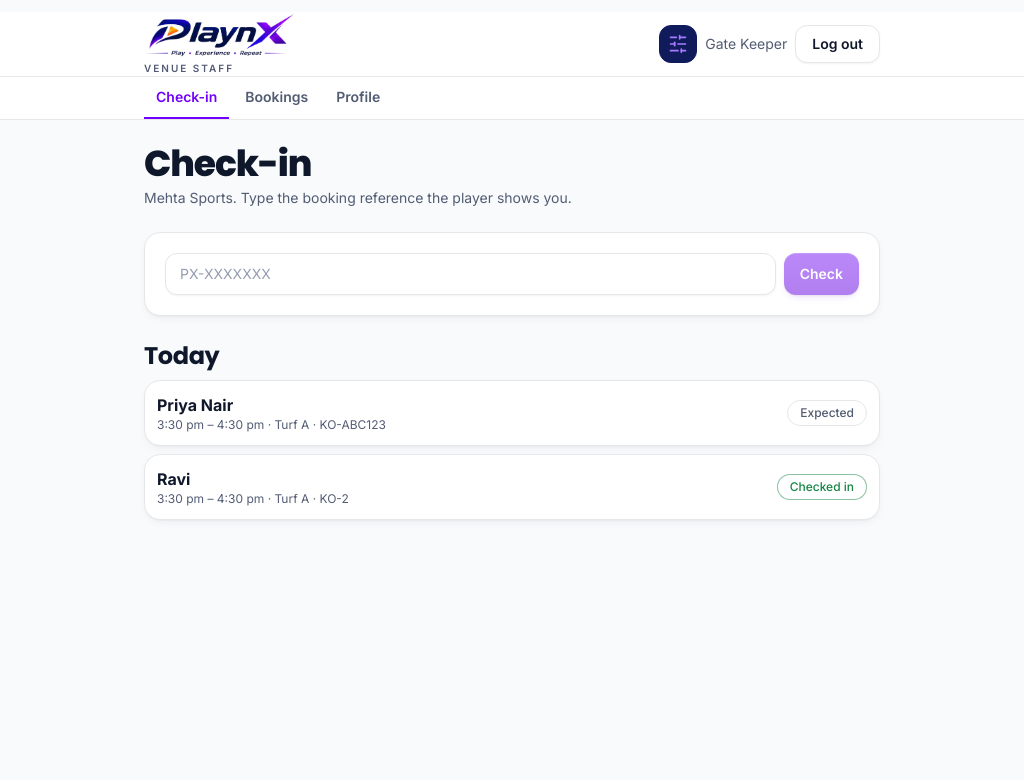
Test case: staff portal › says plainly when a booking is not valid, and offers no check-in
Type "KO-ABC123" into the field named "Booking reference" at (470, 274), box [165, 253, 776, 295]
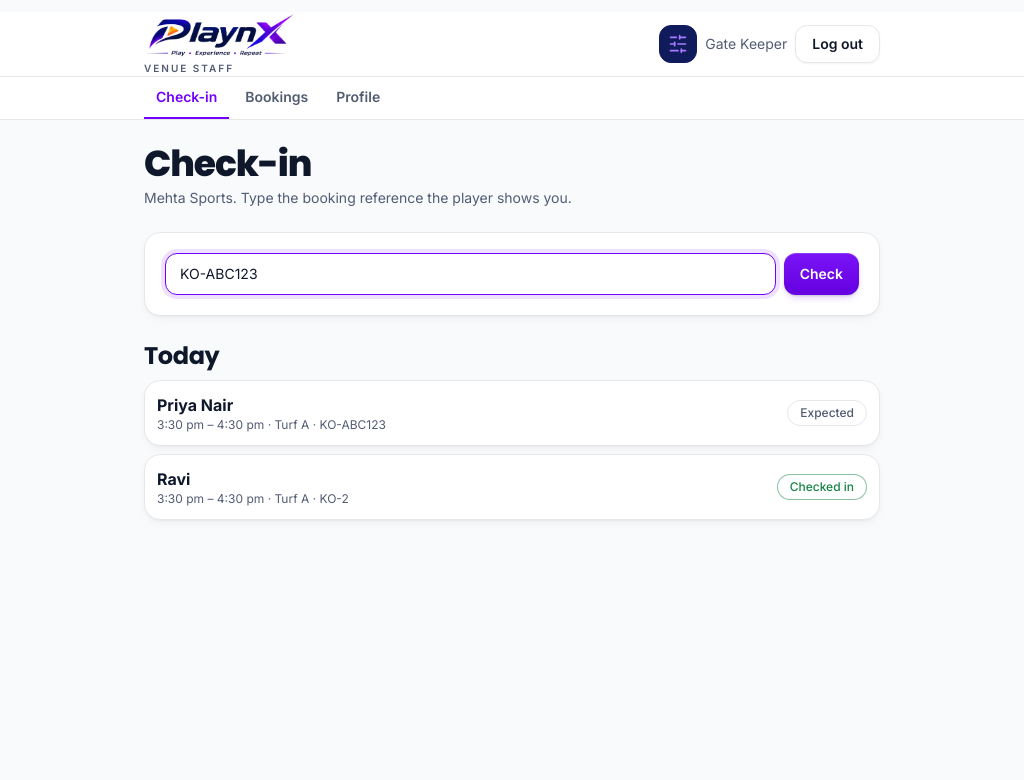
Click the button "Check" at (821, 274), box [784, 253, 859, 295]
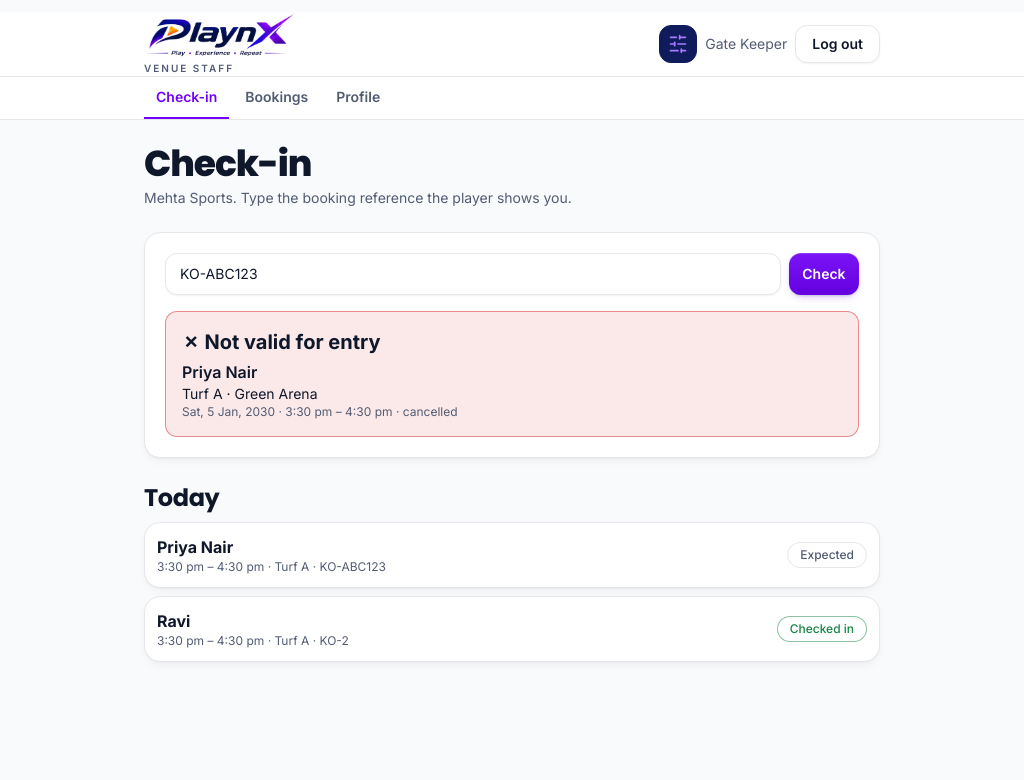
Expected: the message named "Check-in result" shows "✗ Not valid for entry", [182, 330, 380, 354]
